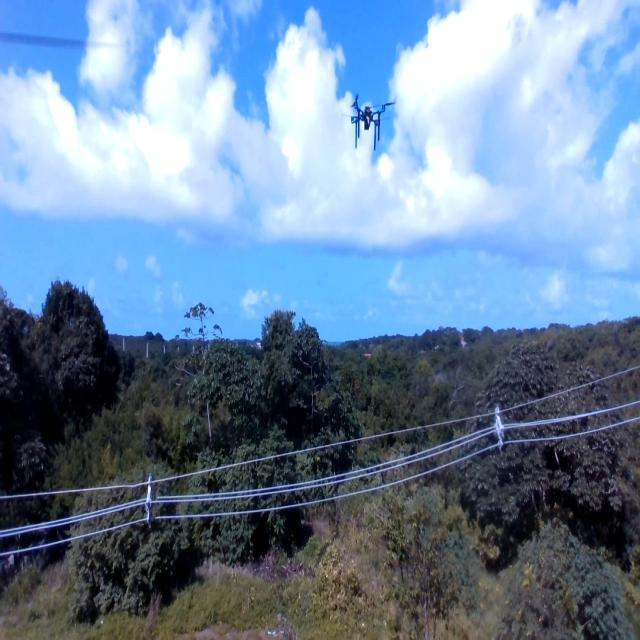-uav-: (340, 84, 398, 157)
